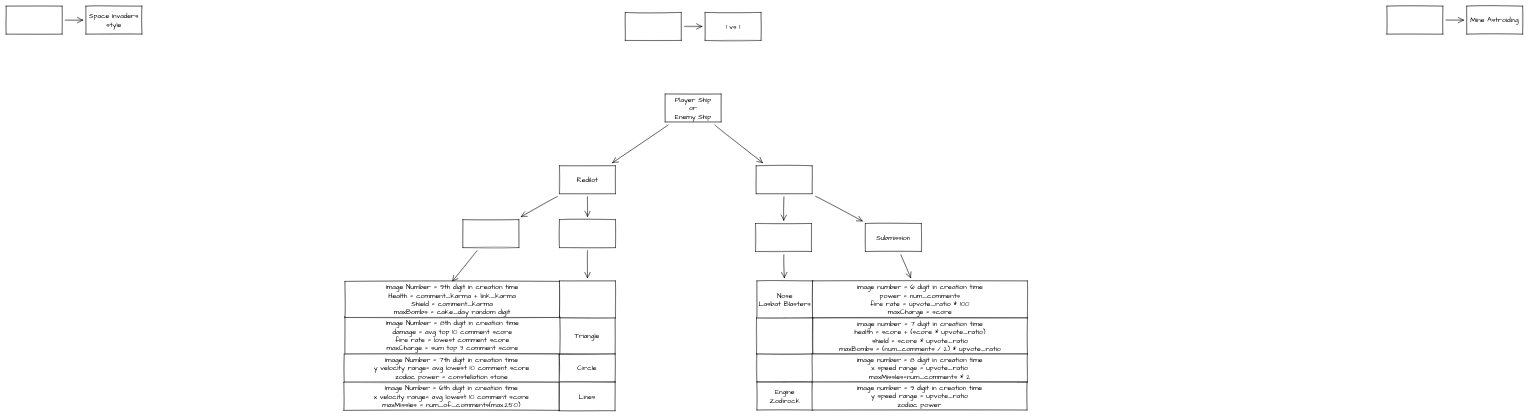
Some shapes in this 1529 by 417 pixel diagram are drawn without their labels. The centre of each missing label's shape, as x and y in pixels:
"Alien Swarm" belongs at (x=34, y=20).
"Astroid Mining" belongs at (x=1415, y=20).
"Body Bomb Bay" belongs at (x=784, y=336).
"Dog Fight" belongs at (x=653, y=26).
"Pilot" belongs at (x=587, y=233).
"Redditor" belongs at (x=491, y=233).
"Shidpit" belongs at (x=784, y=179).
"Ship" belongs at (x=783, y=237).
"Square" belongs at (x=587, y=299).
"Wings Missle Pods" belongs at (x=785, y=368).
